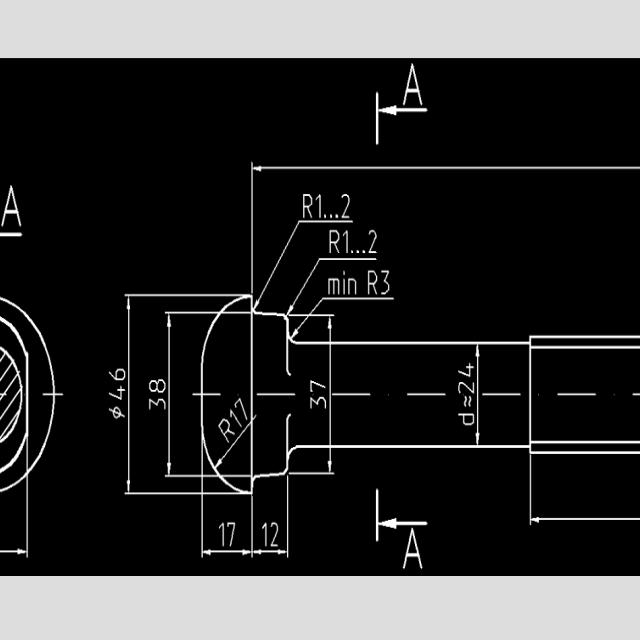marking_line: (254, 164, 640, 173), (124, 295, 133, 493), (530, 513, 640, 523), (326, 318, 333, 472), (166, 314, 172, 476), (379, 517, 428, 531), (379, 105, 427, 116), (476, 344, 480, 446), (204, 550, 251, 556), (253, 549, 285, 556)
numeric: (0, 182, 25, 229), (402, 527, 427, 570), (403, 64, 427, 107), (328, 269, 361, 296), (148, 379, 168, 412), (106, 370, 127, 401), (307, 382, 327, 414), (229, 399, 248, 429), (336, 191, 354, 220), (326, 226, 342, 256), (216, 420, 234, 441), (379, 268, 393, 294), (367, 230, 381, 255), (315, 191, 327, 219), (217, 519, 228, 549), (269, 520, 281, 547), (302, 192, 313, 220), (457, 362, 475, 379), (367, 271, 379, 296), (456, 381, 476, 395), (456, 412, 474, 426), (261, 521, 269, 550), (227, 522, 235, 549), (343, 230, 350, 257)
special_symbol: (254, 219, 299, 311), (287, 257, 319, 313), (291, 298, 323, 340), (105, 404, 125, 420), (462, 394, 474, 409)
